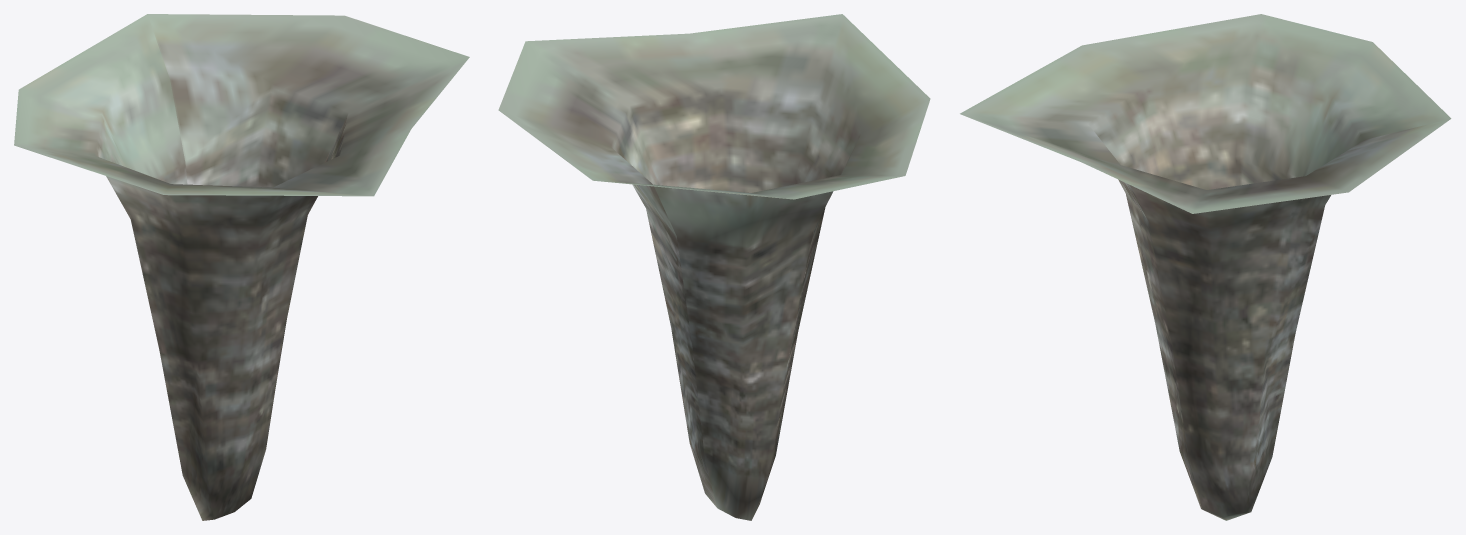
File: TROLLHOLE02_PS-MAINSTALAG76.fbx
3 views of the same model, side by side, from view 1: azimuth 30°, elevation 25°; view 2: azimuth 150°, elevation 25°; view 3: azimuth 270°, elevation 25° (orthographic). The views are drawn at different scales.
Parts seen in each view (by area): view 1: TROLLHOLE02_PS-MAINSTALAG76; view 2: TROLLHOLE02_PS-MAINSTALAG76; view 3: TROLLHOLE02_PS-MAINSTALAG76.
Part boxes in pixels (left/top/right/bottom): TROLLHOLE02_PS-MAINSTALAG76: left=14, top=14, right=469, bottom=520; TROLLHOLE02_PS-MAINSTALAG76: left=498, top=14, right=930, bottom=520; TROLLHOLE02_PS-MAINSTALAG76: left=960, top=14, right=1451, bottom=520.
Bounding box in the file's own units: 19463 × 18343 × 19244.
Materials: 1 (1 with a texture image).
